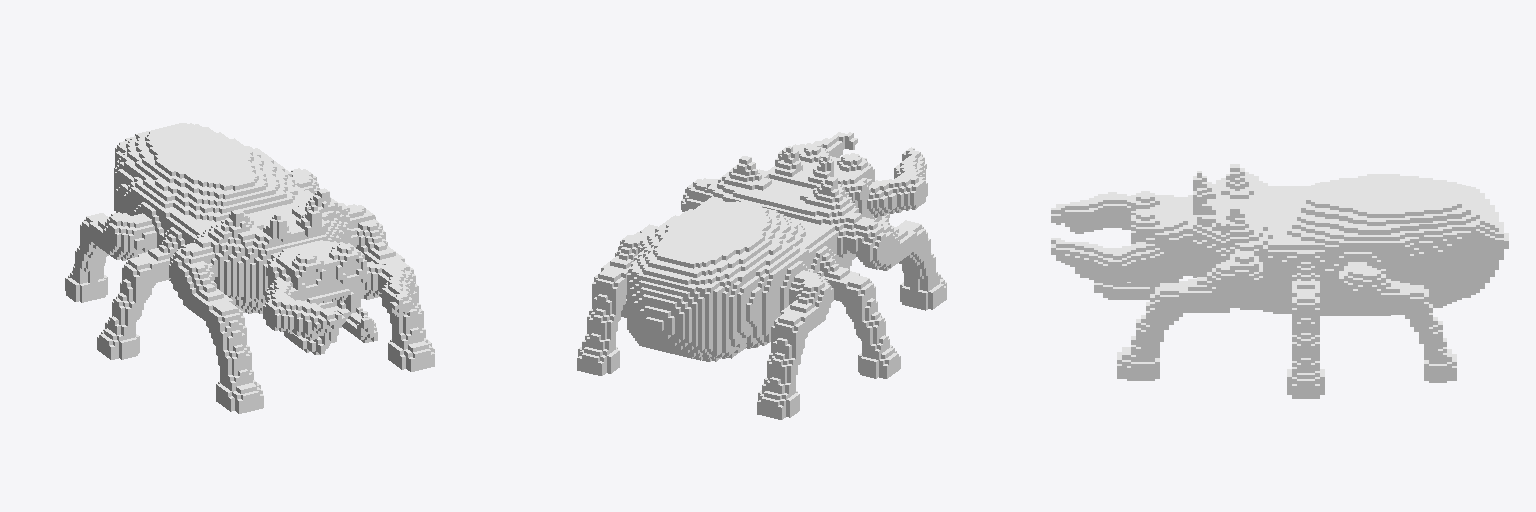
File: beetle_attack_v1.0-0.obj
3 views of the same model, side by side, from view 1: azimuth 30°, elevation 25°; view 2: azimuth 150°, elevation 25°; view 3: azimuth 270°, elevation 25° (orthographic).
Visible parts, largest first — view 1: object 1; view 2: object 1; view 3: object 1.
Part boxes in pixels (x1,y1,x2,y2): object 1: (65,123,434,413); object 1: (577,132,946,419); object 1: (1051,164,1508,398).
Bounding box in the file's own units: 6.8 × 3.5 × 9.7.